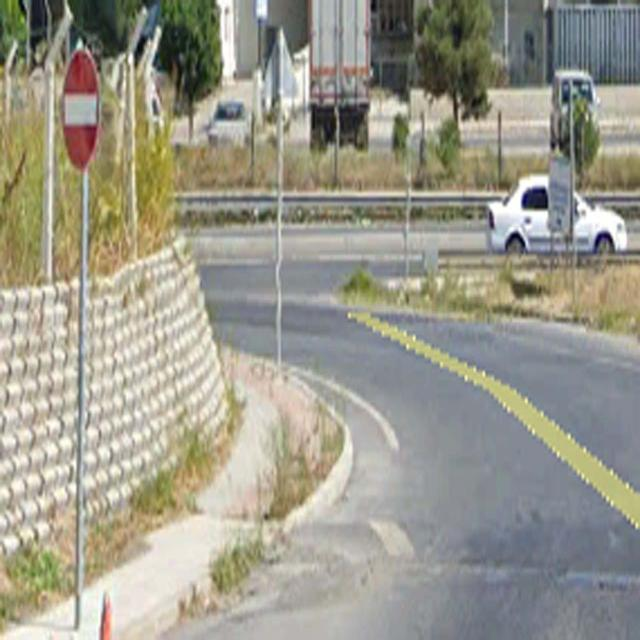girisyok: (63, 49, 99, 170)
